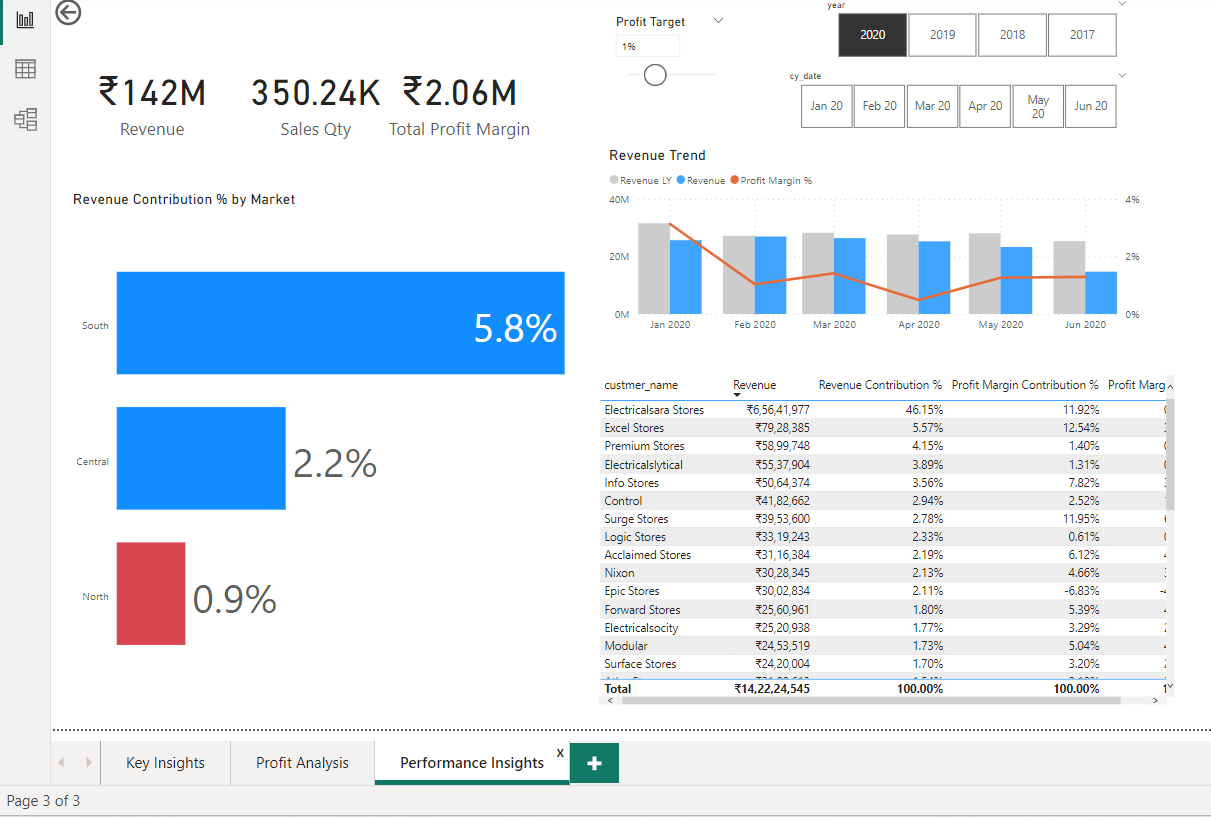

The dashboard page shown, as its layout file describes it:
{"tool":"powerbi","page":{"name":"Performance Insights","canvas":[1350,850],"ordinal":2},"visuals":[{"type":"card","fields":{"Values":["BaseMeasures.Revenue"]},"box":[20.3,17.4,193.9,208.4],"z":0},{"type":"card","fields":{"Values":["BaseMeasures.Sales Qty"]},"box":[214.2,17.4,185.2,208.4],"z":1000},{"type":"slicer","fields":{"Values":["sales date.year"]},"box":[885.7,0,371.9,78.2],"z":2000},{"type":"slicer","fields":{"Values":["sales date.cy_date"]},"box":[842.3,82.5,415.4,78.2],"z":3000},{"type":"tableEx","title":"Top 5 customers by Revenue","fields":{"Values":["sales customers.custmer_name","BaseMeasures.Revenue","BaseMeasures.Revenue Contribution %","BaseMeasures.Profit Margin Contribution %","BaseMeasures.Profit Margin %"]},"box":[629.6,435.6,675.9,390.8],"z":4000},{"type":"lineClusteredColumnComboChart","title":"Revenue Trend","fields":{"Category":["sales date.cy_date"],"Y":["BaseMeasures.Revenue LY","BaseMeasures.Revenue"],"Y2":["BaseMeasures.Profit Margin %"]},"box":[641.1,175.1,625.2,224.3],"z":5000},{"type":"card","fields":{"Values":["BaseMeasures.Total Profit Margin"]},"box":[380.6,17.4,185.2,208.4],"z":6000},{"type":"barChart","title":"Revenue Contribution % by Market","fields":{"Y":["BaseMeasures.Profit Margin %"],"Category":["sales markets.zone","sales markets.markets_name","sales customers.custmer_name","sales products.product_code"]},"box":[20.3,225.8,596.3,600.6],"z":7000},{"type":"slicer","fields":{"Values":["Profit Target.Profit Target"]},"box":[641.1,17.4,150.5,157.8],"z":8000},{"type":"actionButton","box":[0,0,100,40],"z":9000}]}

Visuals, with their boxes on the page's 1350x850 design canvas (x1, y1, x2, y2). These are canvas units, not pixel positions in the 1211x817 screenshot, which may show the page scaled, cropped or inside an application window:
card - BaseMeasures.Revenue: 20:17:214:226
card - BaseMeasures.Sales Qty: 214:17:399:226
slicer - sales date.year: 886:0:1258:78
slicer - sales date.cy_date: 842:82:1258:161
"Top 5 customers by Revenue" tableEx: 630:436:1306:826
"Revenue Trend" lineClusteredColumnComboChart: 641:175:1266:399
card - BaseMeasures.Total Profit Margin: 381:17:566:226
"Revenue Contribution % by Market" barChart: 20:226:617:826
slicer - Profit Target.Profit Target: 641:17:792:175
actionButton: 0:0:100:40
